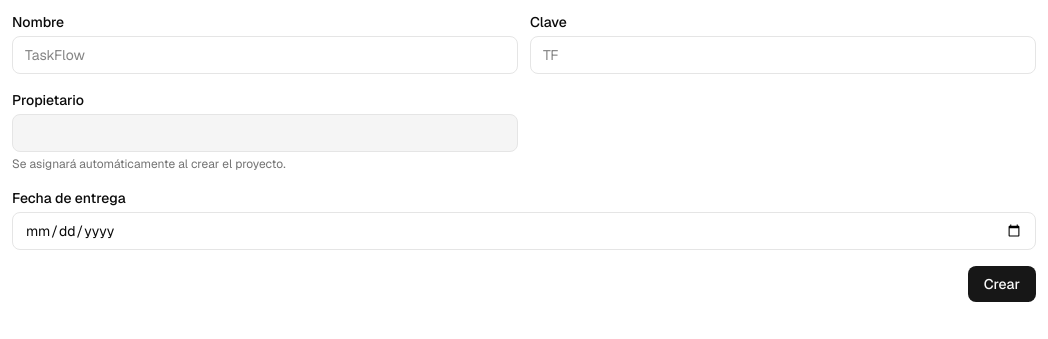
Test case: ProjectForm (name, key, dueDate) › muestra errores de validación cuando faltan datos requeridos
This screenshot has width=1048, height=339.
Click the button "Crear".
click(1002, 284)  # box [968,266,1036,302]
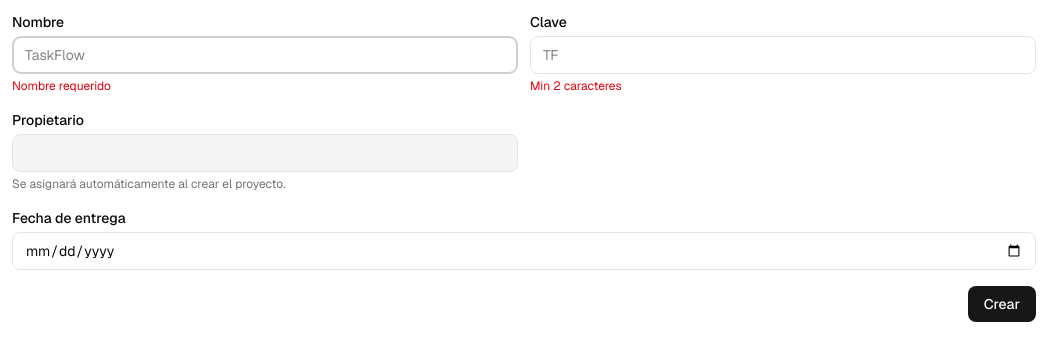
Now the text "Nombre requerido" is shown, box [12,78,111,94]
Now the text "Min 2 caracteres" is shown, box [530,78,622,94]
